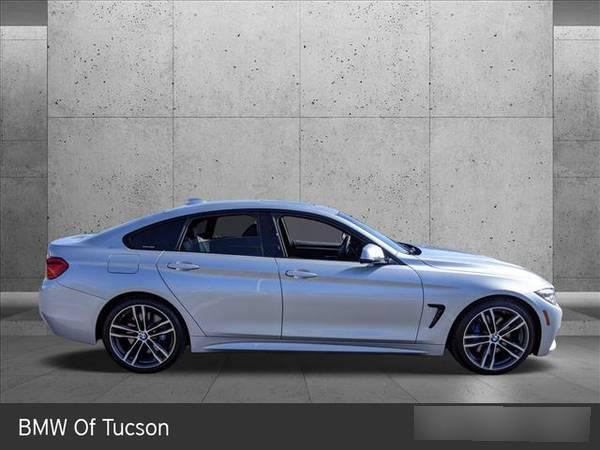Front_Bumper: (534, 303, 563, 353)
Front_Fender: (398, 254, 553, 353)
Front_Right_Door: (273, 259, 421, 351)
Front_Right_Window: (268, 212, 410, 267)
Hood: (410, 244, 556, 287)
Rear_Bumper: (35, 280, 106, 347)
Rear_Fender: (46, 215, 185, 303)
Rear_Left_Window: (169, 209, 279, 262)
Rear_Right_Window: (156, 253, 282, 355)
Right_Headlight: (537, 286, 561, 305)
Right_Taillight: (44, 256, 66, 281)
Roof: (78, 199, 395, 257)
Wheel: (453, 297, 537, 373), (97, 300, 184, 373)
